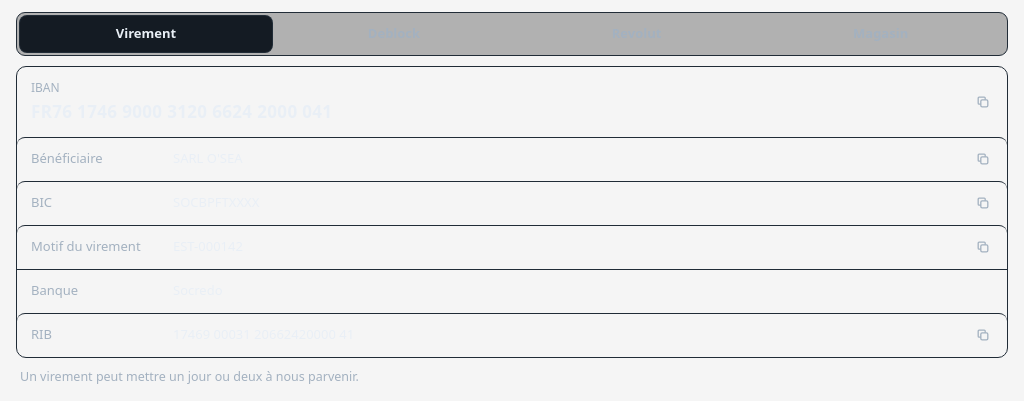
Test: TrackingPaymentMethods › the shop pane names the ways to pay and the address, with no reference to quote
Click the tab "Magasin". click: [881, 34]
box: [757, 16, 1004, 52]
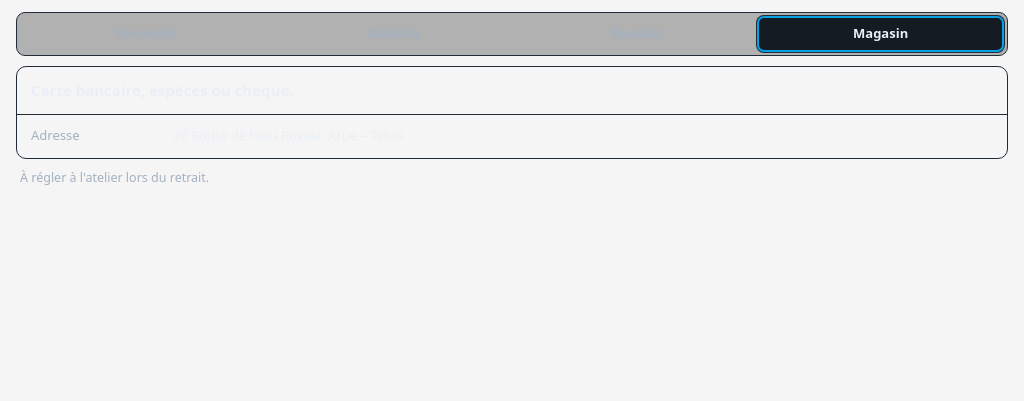
Check: the button "EST-000142" is not shown
Check: the text "Adresse" is shown, box [31, 126, 80, 144]
Check: the text "À régler à l'atelier lors du retrait." is shown, box [20, 169, 209, 186]
